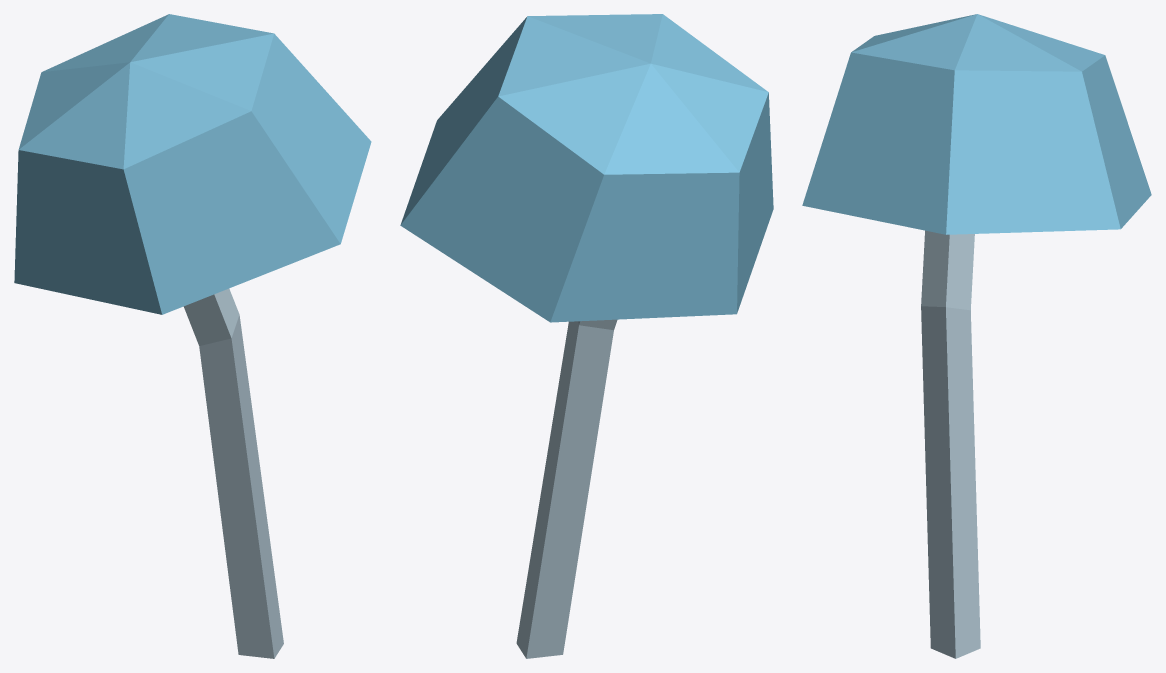
File: Mushroom_a_03.fbx
3 views of the same model, side by side, from view 1: azimuth 30°, elevation 25°; view 2: azimuth 150°, elevation 25°; view 3: azimuth 270°, elevation 25° (orthographic). The views are drawn at different scales.
Visible parts, largest first — view 1: Mushroom_a_03; view 2: Mushroom_a_03; view 3: Mushroom_a_03.
Boxes of the visible parts, x1,y1,x2,y2 form: Mushroom_a_03: (14, 14, 371, 658); Mushroom_a_03: (400, 14, 773, 658); Mushroom_a_03: (802, 14, 1151, 658).
Bounding box in the file's own units: 0.1239 × 0.2237 × 0.1213.
